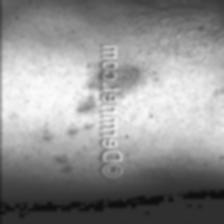Toxin: (88, 68, 136, 99)
